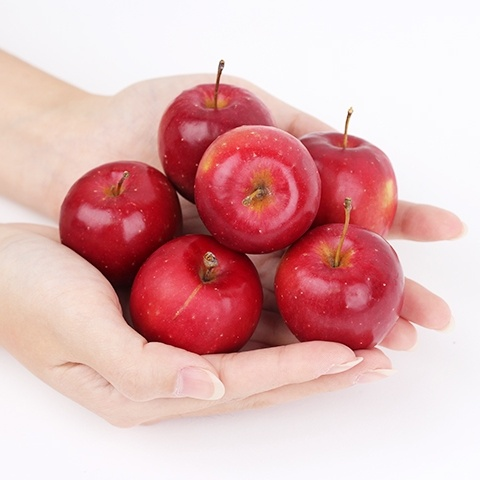apple: (126, 235, 262, 359), (277, 225, 406, 352), (56, 160, 185, 284), (152, 80, 278, 203), (192, 126, 319, 245), (281, 137, 406, 239)
